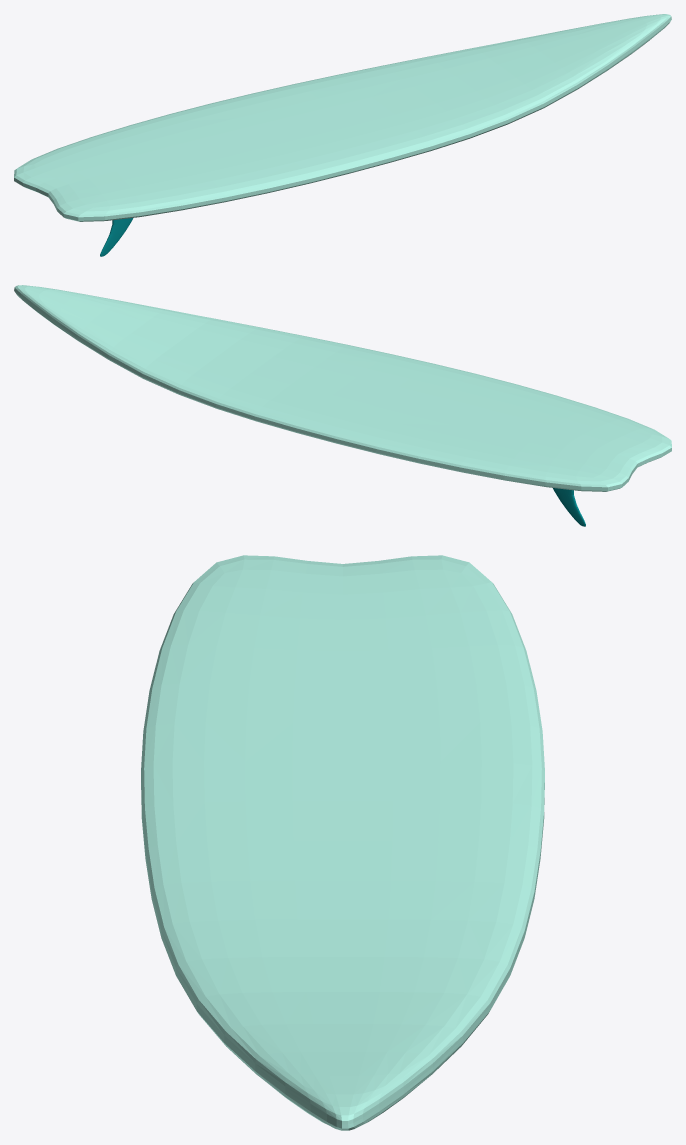
Rendered from dkwqsVsI2R0.glb.
The picture shows the model from 3 angles, top to bottom: view 1: azimuth 30°, elevation 25°; view 2: azimuth 150°, elevation 25°; view 3: azimuth 270°, elevation 25°; orthographic projection. The views are drawn at different scales.
Parts seen in each view (by area): view 1: Cube_1, Cube; view 2: Cube_1, Cube; view 3: Cube_1.
Part boxes in pixels (bbox=[...]): Cube_1: bbox=[14, 14, 671, 221]; Cube: bbox=[100, 218, 133, 256]; Cube_1: bbox=[14, 285, 671, 491]; Cube: bbox=[553, 488, 585, 526]; Cube_1: bbox=[141, 555, 544, 1130].
Size of the model in its own units: 6.39 by 1 by 1.77.
